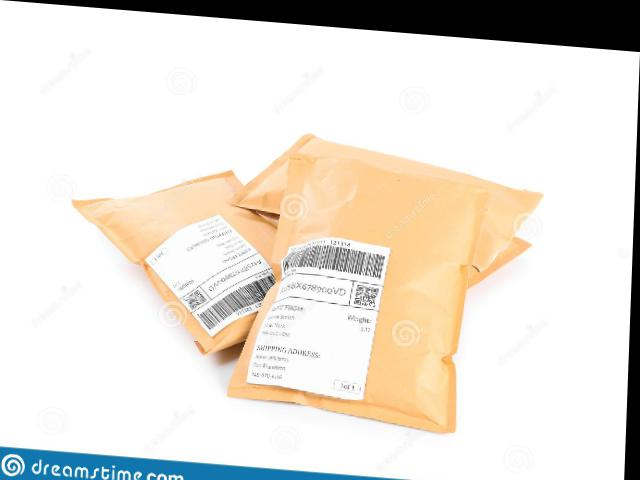label: (258, 222, 397, 400), (141, 213, 281, 346)
package: (67, 120, 549, 442)
